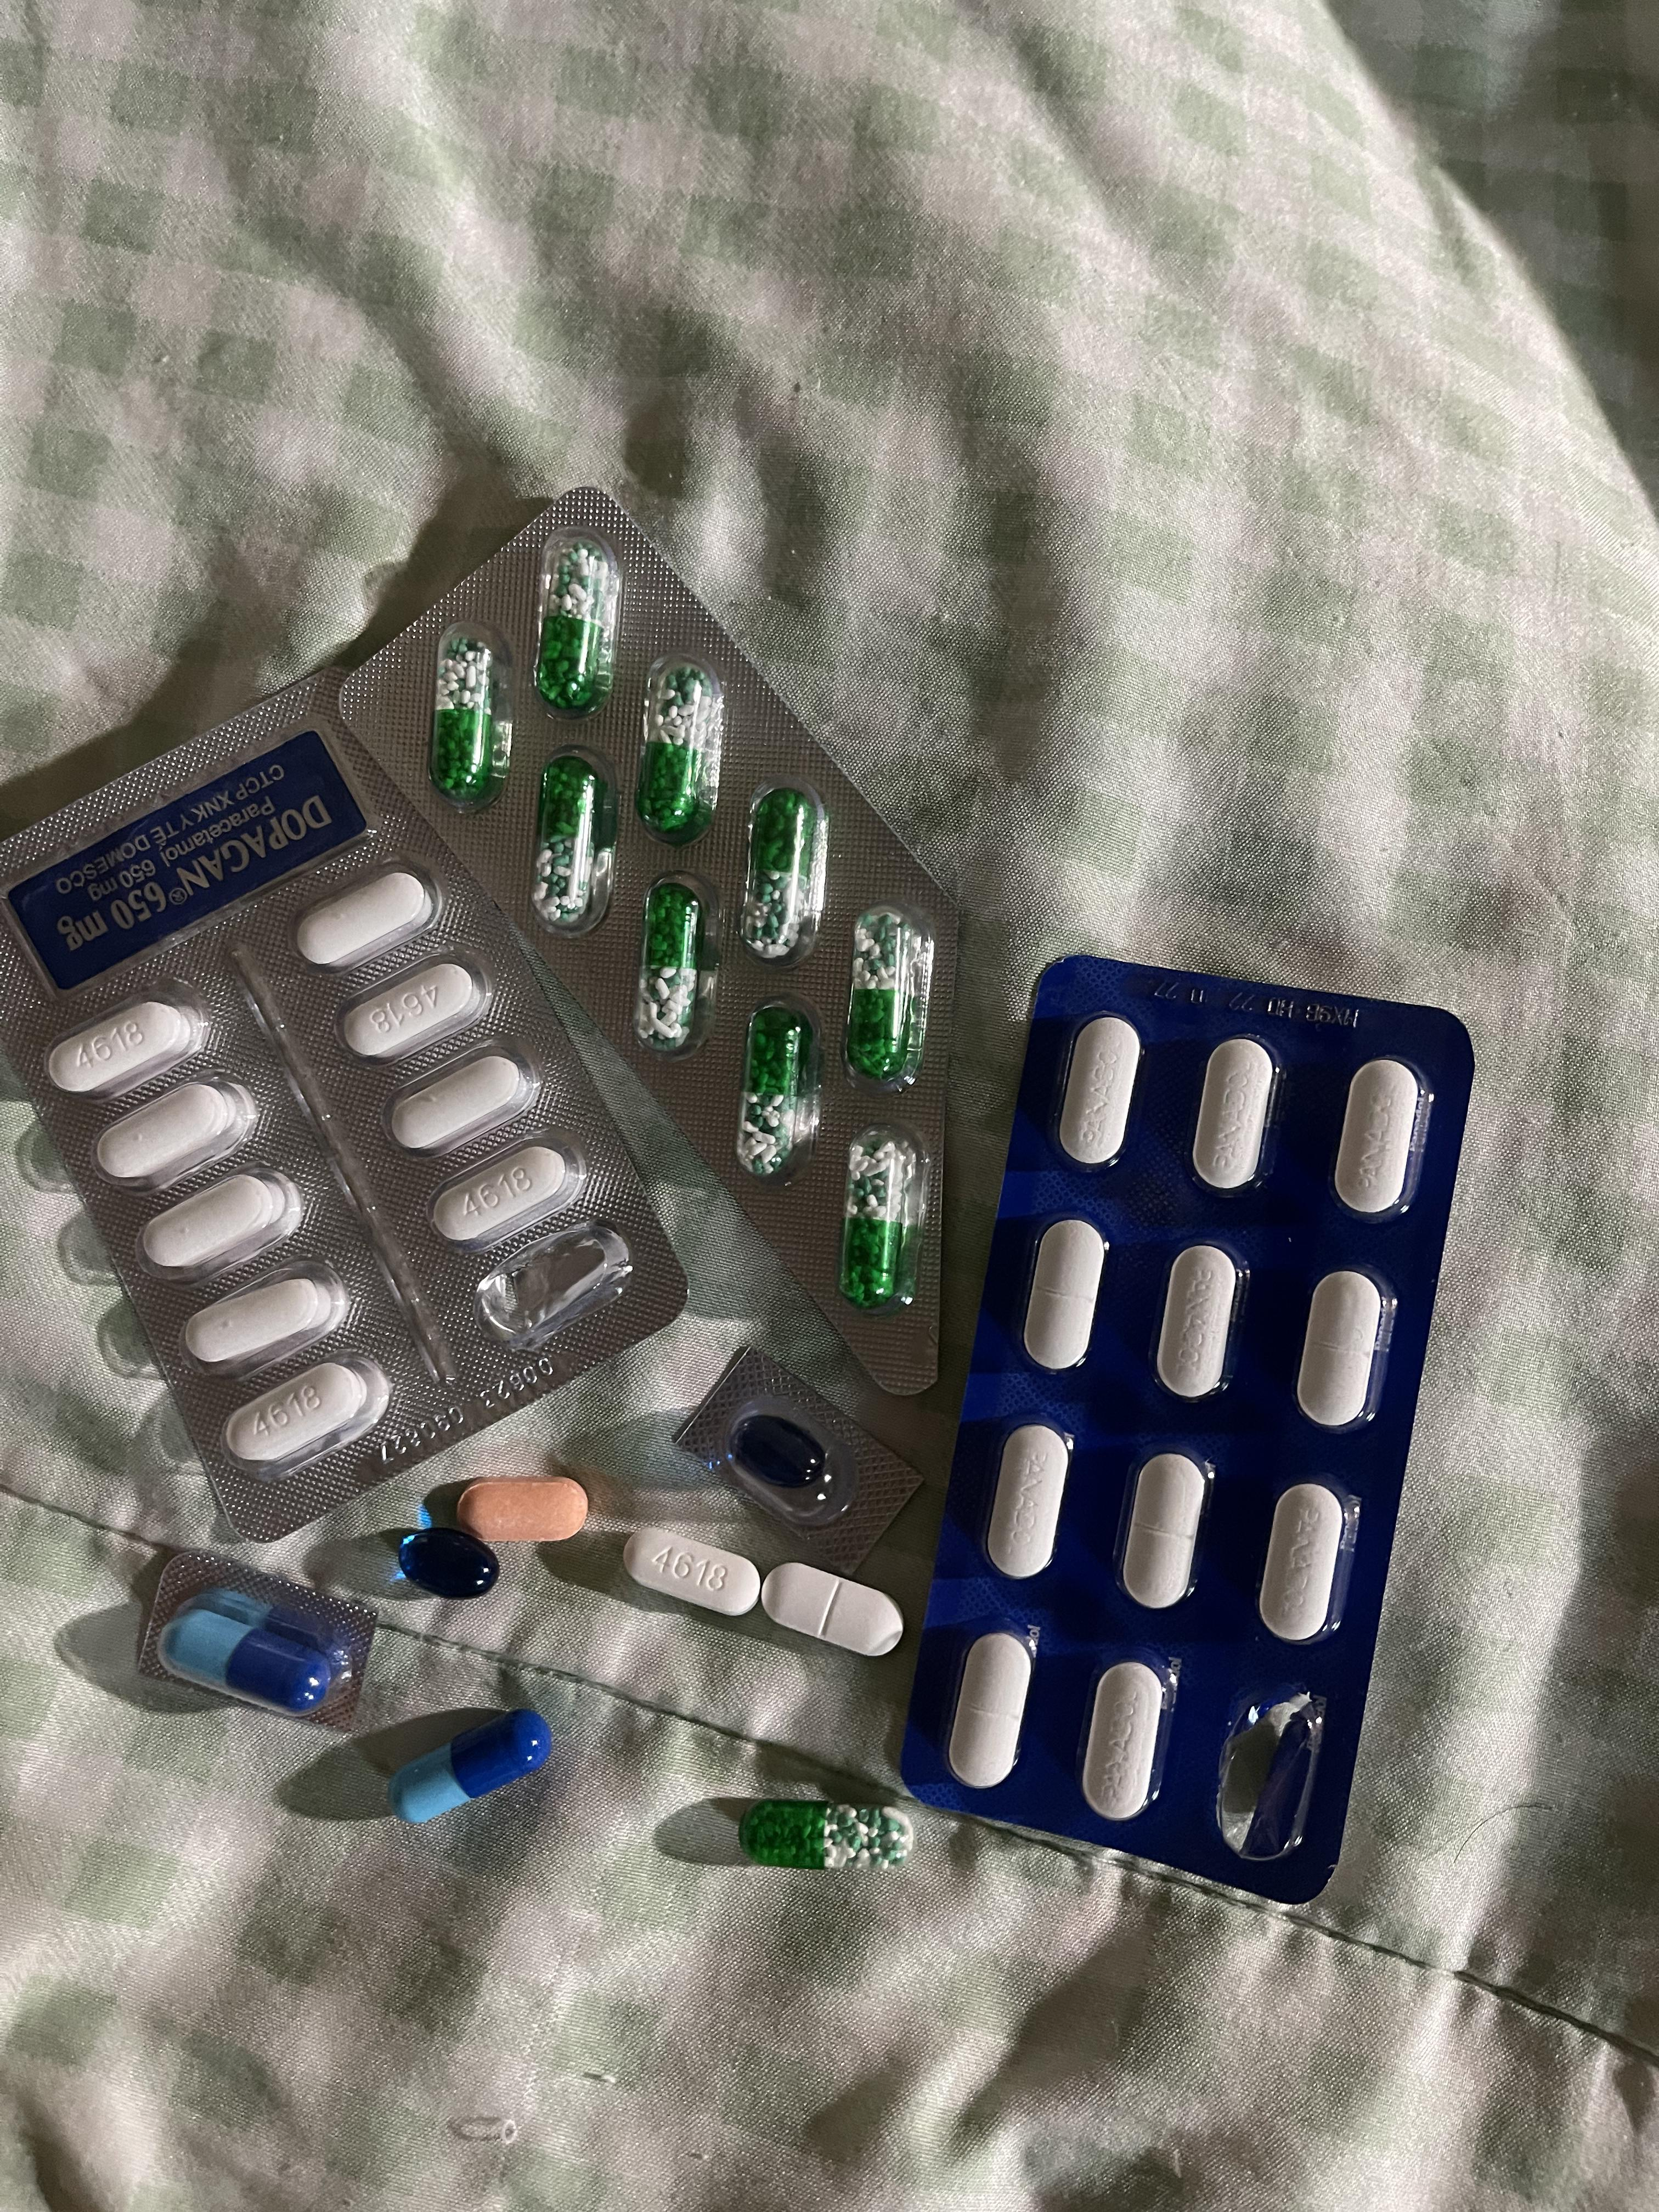Lincomyxin_500mg: (390, 1526, 502, 1601), (735, 1413, 828, 1489)
Loratadine_10mg: (457, 1480, 589, 1545)
Paracetamol_350mg: (1115, 1449, 1213, 1615), (1258, 1480, 1351, 1648), (1298, 1268, 1389, 1432), (1333, 1059, 1425, 1217), (762, 1559, 906, 1658), (1080, 1658, 1166, 1824), (946, 1629, 1032, 1794), (1155, 1245, 1243, 1406), (1190, 1040, 1279, 1191), (985, 1423, 1066, 1580), (1058, 1017, 1141, 1165), (1023, 1219, 1101, 1371)
Paracetamol_500mg: (183, 1259, 354, 1379), (138, 1163, 305, 1282), (94, 1076, 261, 1191), (218, 1355, 385, 1470), (45, 986, 209, 1099), (293, 867, 439, 970), (387, 1052, 526, 1157), (343, 963, 477, 1061), (434, 1148, 566, 1244), (624, 1526, 758, 1618)
Paracetamol_650mg: (645, 667, 721, 838), (735, 1001, 805, 1188), (840, 1125, 910, 1308), (537, 545, 612, 712), (432, 637, 505, 799), (739, 789, 814, 946), (744, 1801, 904, 1869), (847, 909, 911, 1076), (533, 758, 601, 916), (636, 883, 699, 1052)
pill: (162, 1590, 342, 1710), (389, 1709, 561, 1824)
